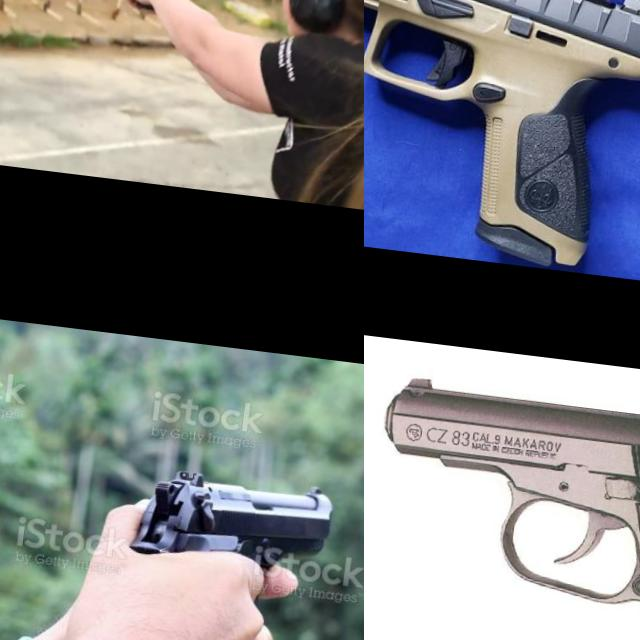handgun: (364, 0, 640, 278), (364, 366, 640, 640), (124, 459, 340, 589), (514, 0, 640, 210), (104, 0, 171, 23)
